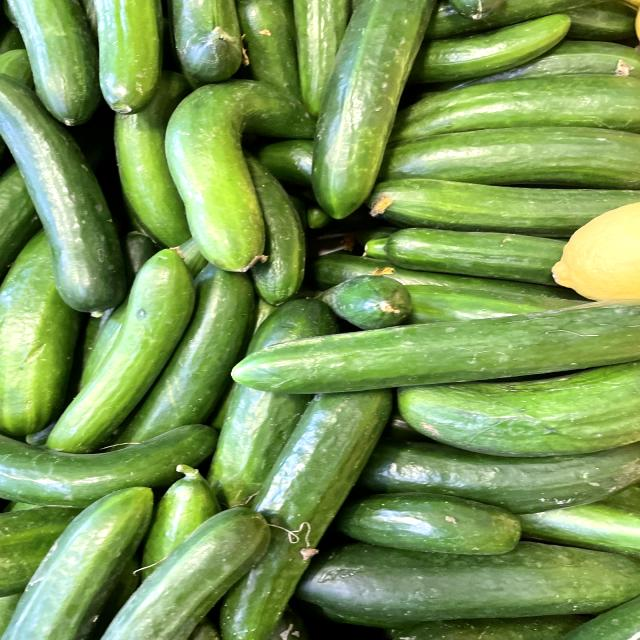cucumber: (213, 293, 640, 408), (289, 0, 455, 226)
